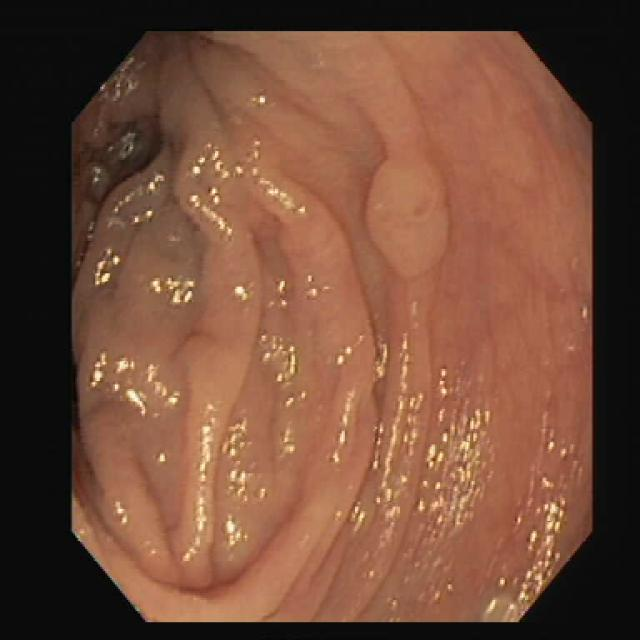tumor: (368, 153, 450, 276)
